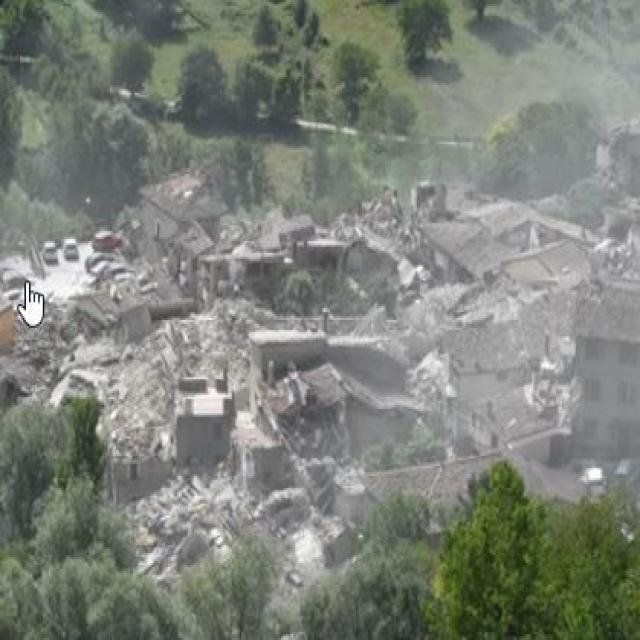collapsed_building: (8, 178, 544, 444)
